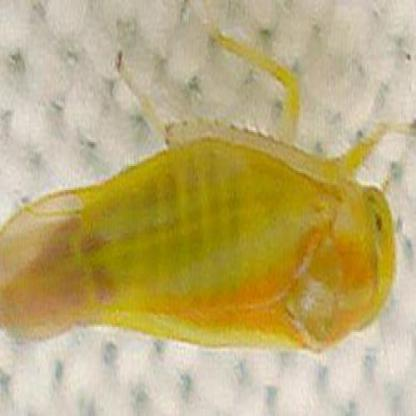green-leafhopper: (2, 146, 401, 354)
